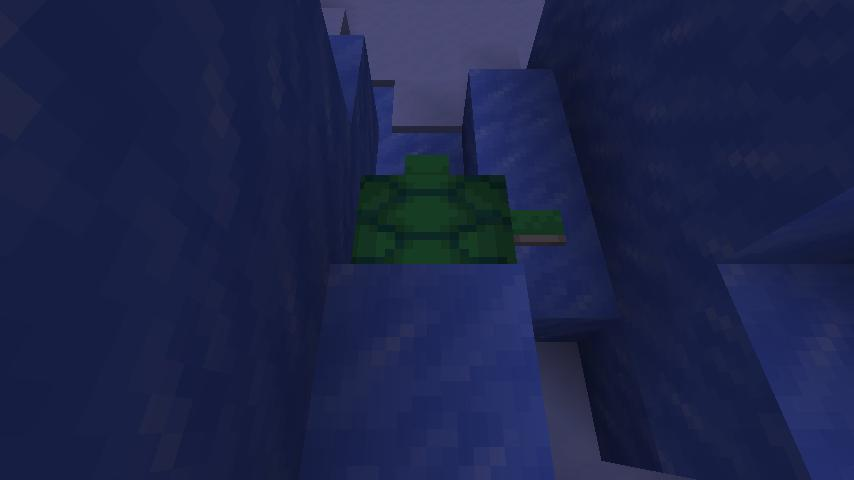turtle: (350, 149, 572, 268)
